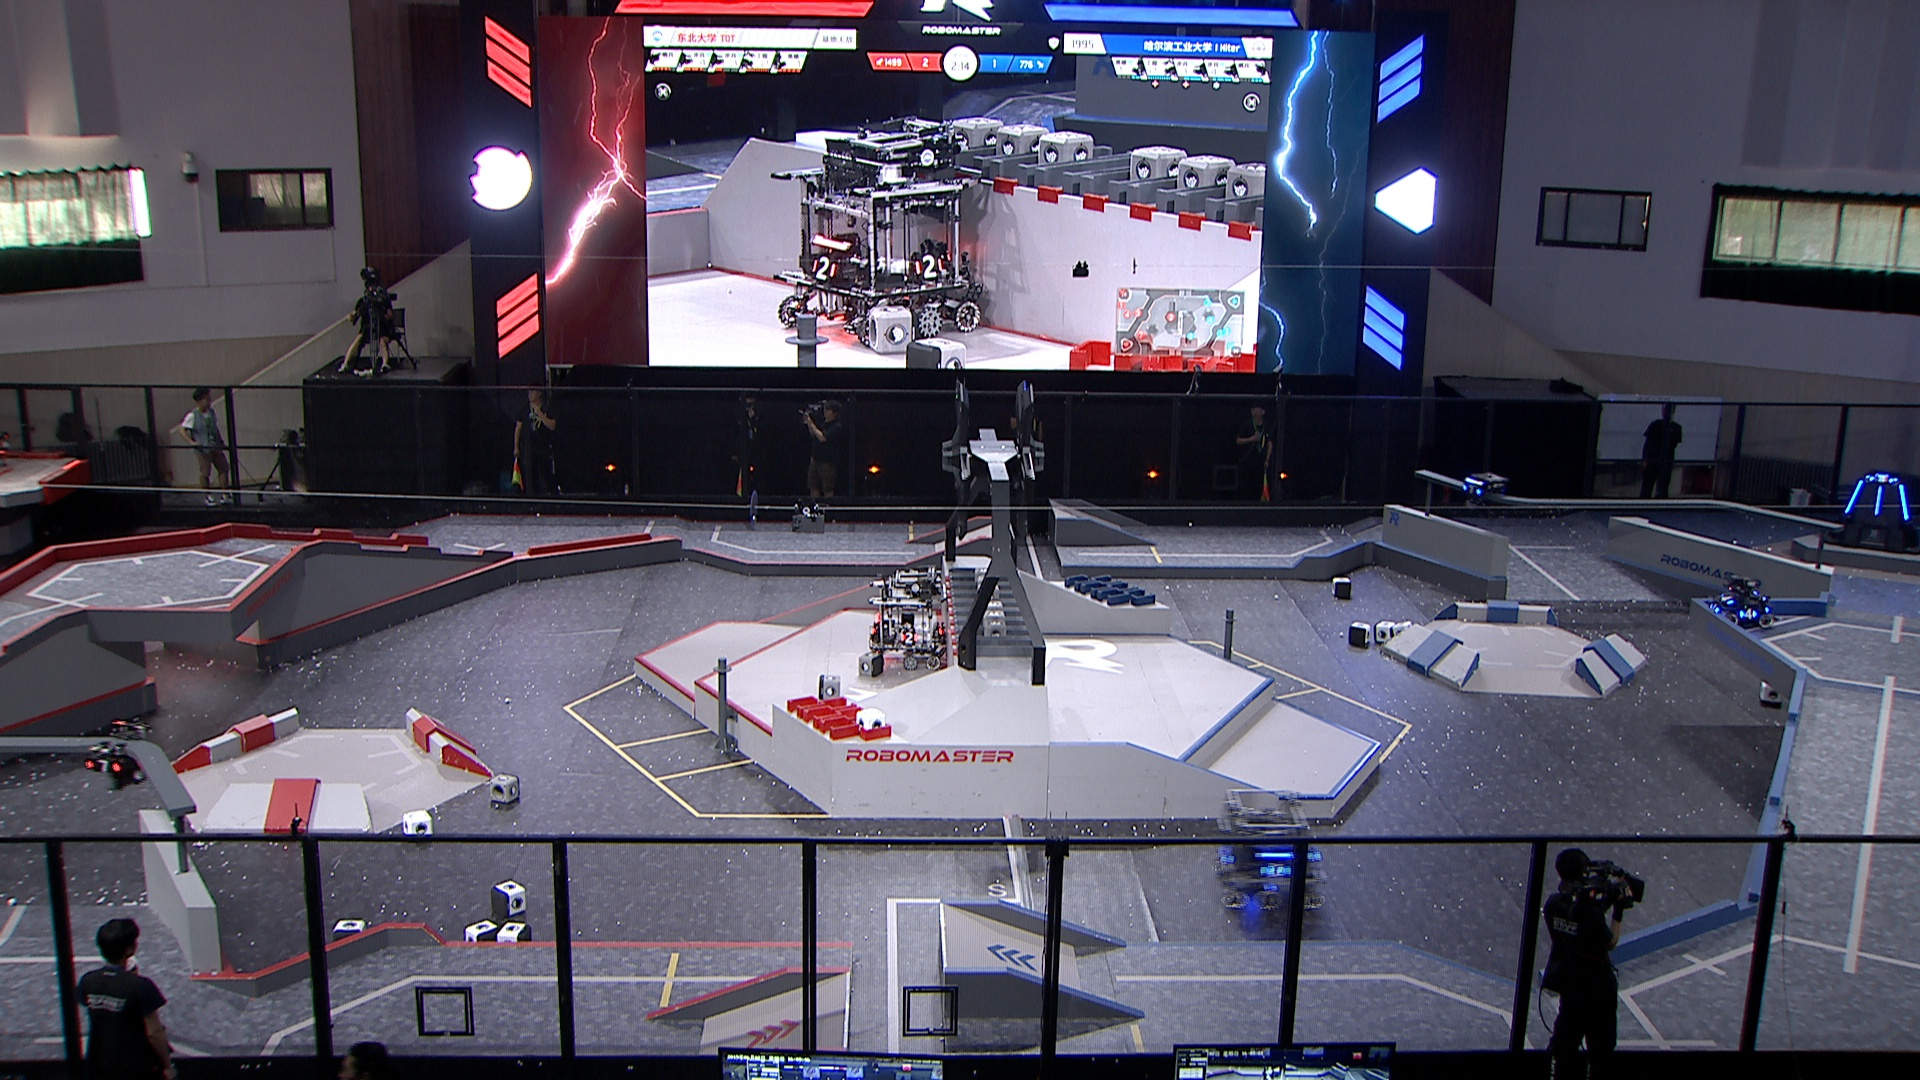armor: (1842, 477, 1865, 516), (82, 757, 123, 774), (1258, 861, 1291, 880), (1899, 483, 1911, 524), (1873, 485, 1884, 518), (1869, 473, 1898, 485), (898, 632, 918, 646), (1737, 608, 1756, 622), (1461, 483, 1482, 496), (1706, 603, 1722, 617), (1717, 593, 1735, 605)
base: (1817, 472, 1920, 556)
car: (1211, 789, 1325, 913), (865, 566, 949, 674), (1705, 575, 1774, 629)
ignore: (770, 121, 992, 342)
watcher: (79, 719, 157, 793), (1460, 469, 1509, 518)
